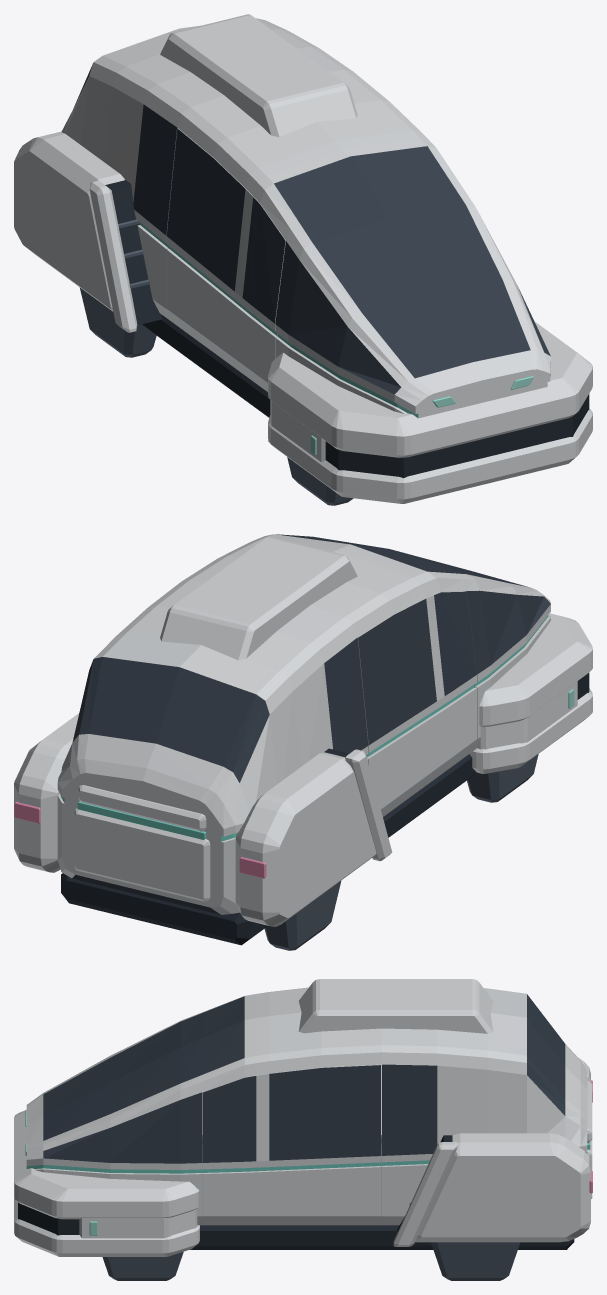
File: commuter-hover-pod-5b6307.glb
3 views of the same model, one above another, from view 1: azimuth 30°, elevation 25°; view 2: azimuth 150°, elevation 25°; view 3: azimuth 270°, elevation 25° (orthographic). The views are drawn at different scales.
Visible parts, largest first — view 1: pod-body, door-right-mesh, nacelle-rr-mesh, nacelle-fr-mesh; view 2: pod-body, door-right-mesh, nacelle-rr-mesh, nacelle-fr-mesh; view 3: pod-body, door-left-mesh, nacelle-rl-mesh, nacelle-fl-mesh.
Boxes of the visible parts, bbox=[...] form: pod-body: bbox=[14, 14, 592, 503]; door-right-mesh: bbox=[166, 128, 285, 382]; nacelle-rr-mesh: bbox=[79, 287, 156, 357]; nacelle-fr-mesh: bbox=[287, 457, 353, 505]; pod-body: bbox=[14, 534, 592, 945]; door-right-mesh: bbox=[357, 591, 476, 808]; nacelle-rr-mesh: bbox=[264, 881, 341, 950]; nacelle-fr-mesh: bbox=[467, 754, 538, 802]; pod-body: bbox=[14, 979, 592, 1256]; door-left-mesh: bbox=[203, 1064, 381, 1215]; nacelle-rl-mesh: bbox=[431, 1242, 520, 1280]; nacelle-fl-mesh: bbox=[102, 1252, 183, 1280].
Size of the model in its own units: 2 by 2.12 by 4.52.
